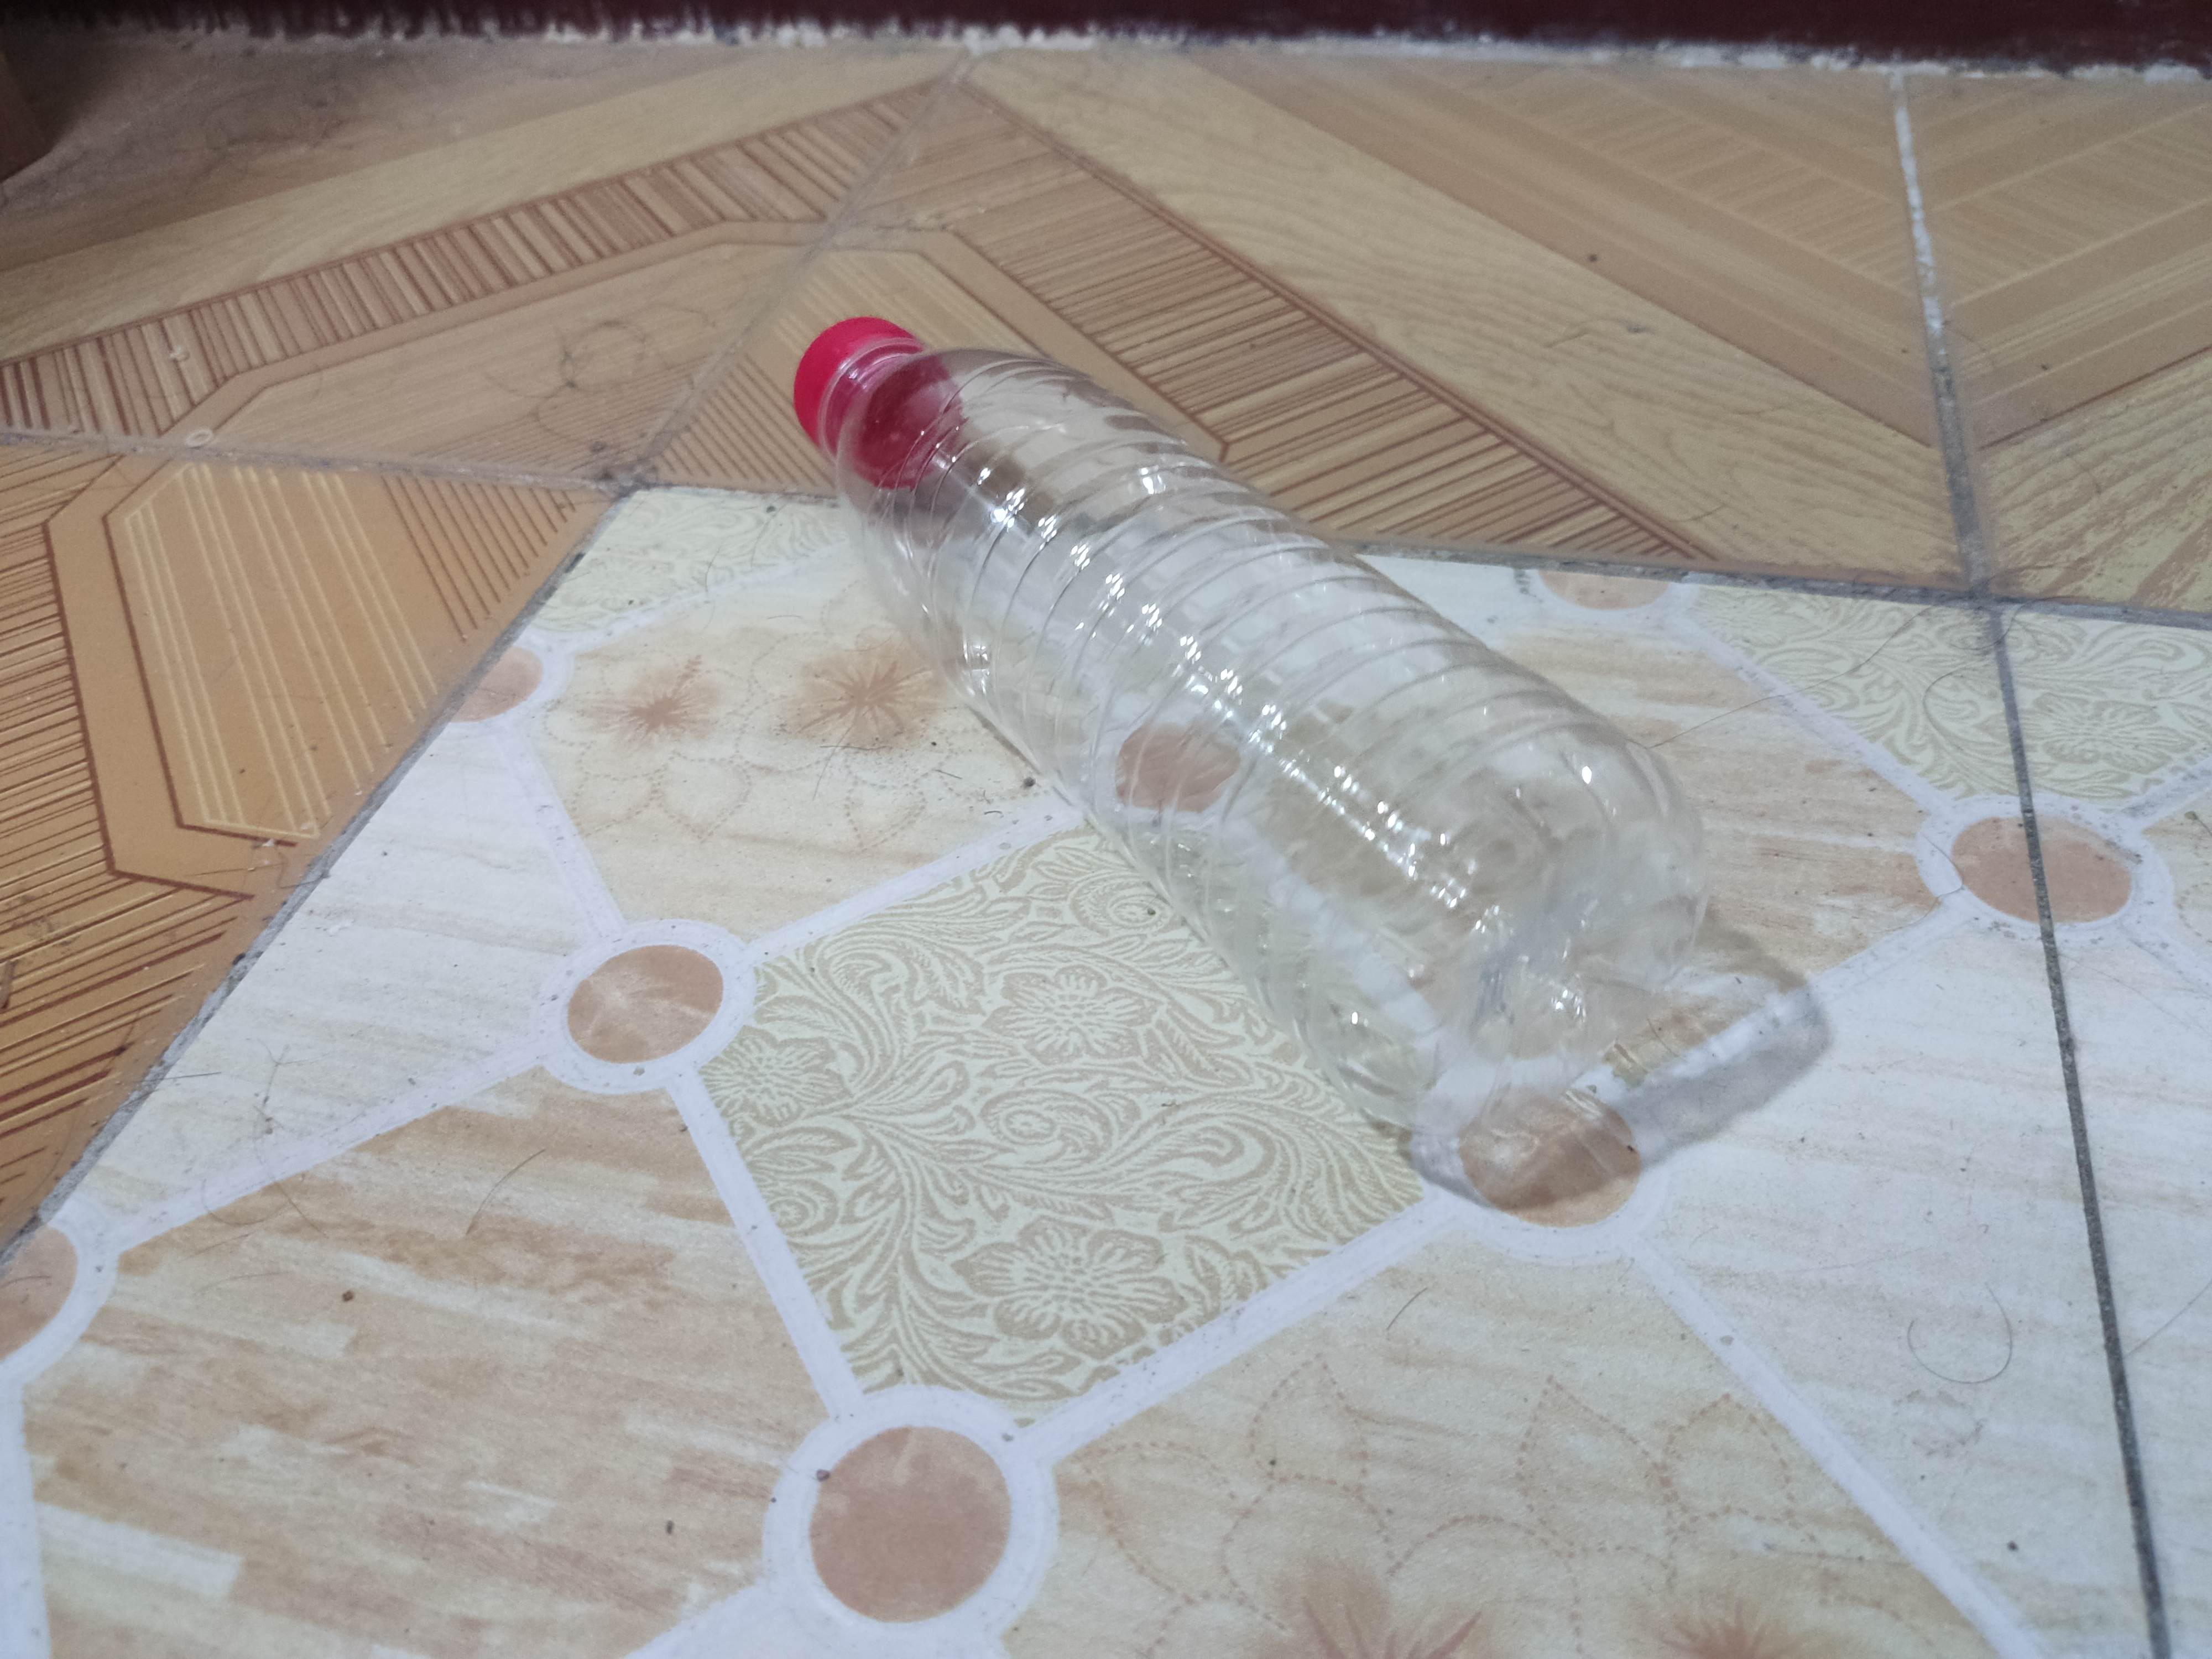Plastic Bottle: (784, 310, 1717, 1141)
